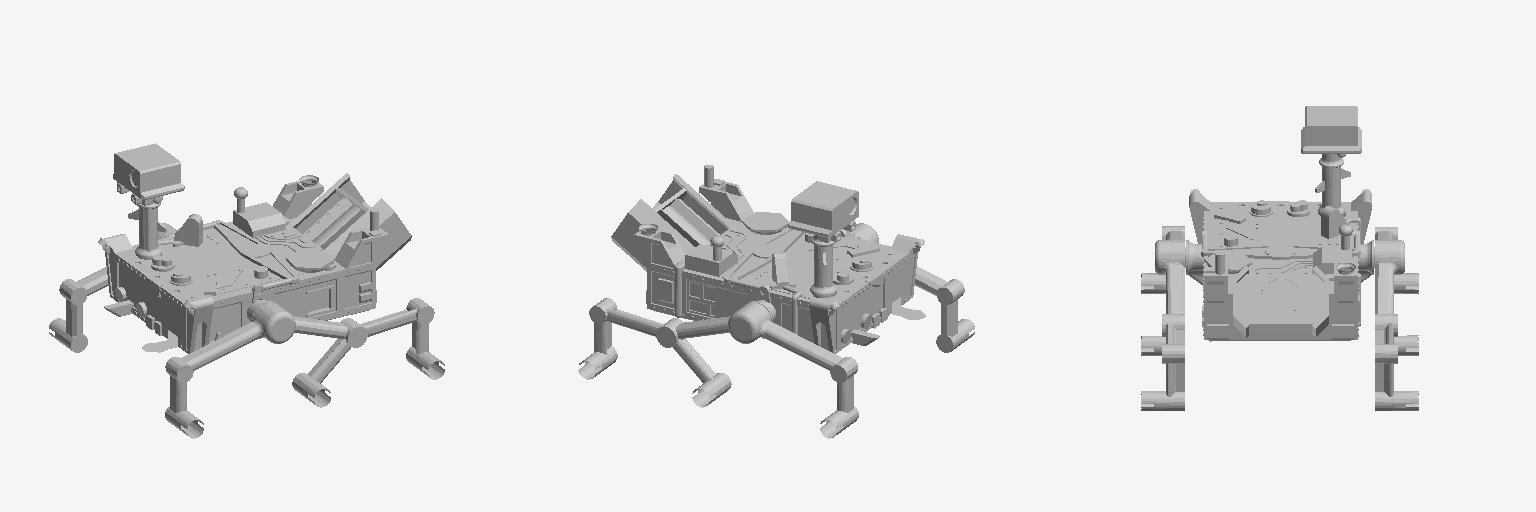
Rendered from curiosity_rover.obj.
3 renders of one model, left to right at view 1: azimuth 30°, elevation 25°; view 2: azimuth 150°, elevation 25°; view 3: azimuth 270°, elevation 25°, orthographic.
Visible parts, largest first — view 1: Rover; view 2: Rover; view 3: Rover.
Part boxes in pixels (x1,y1,x2,y2): Rover: (49, 143, 444, 438); Rover: (578, 165, 974, 438); Rover: (1141, 106, 1418, 410).
Size of the model in its own units: 2.58 by 1.78 by 2.25.